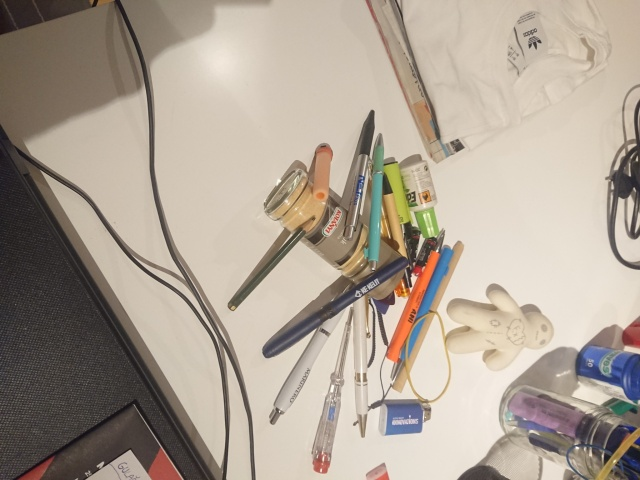Kotanyi Garlic Granules 70g: (260, 164, 414, 303)
